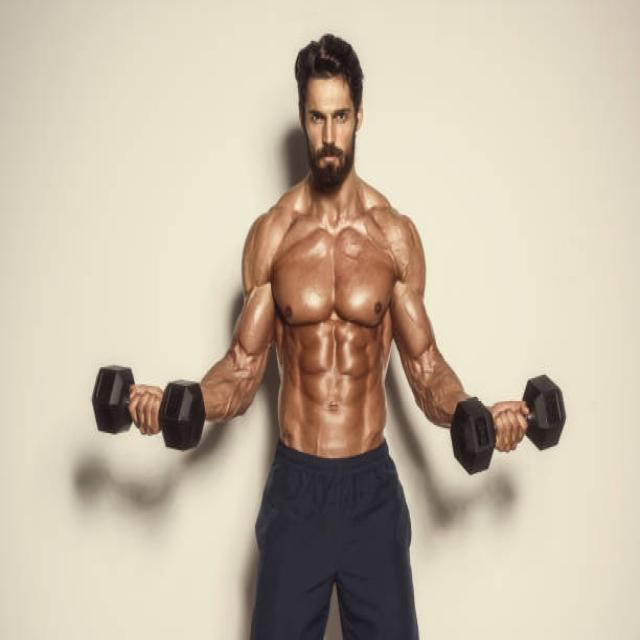no_helmet: (282, 127, 373, 201)
